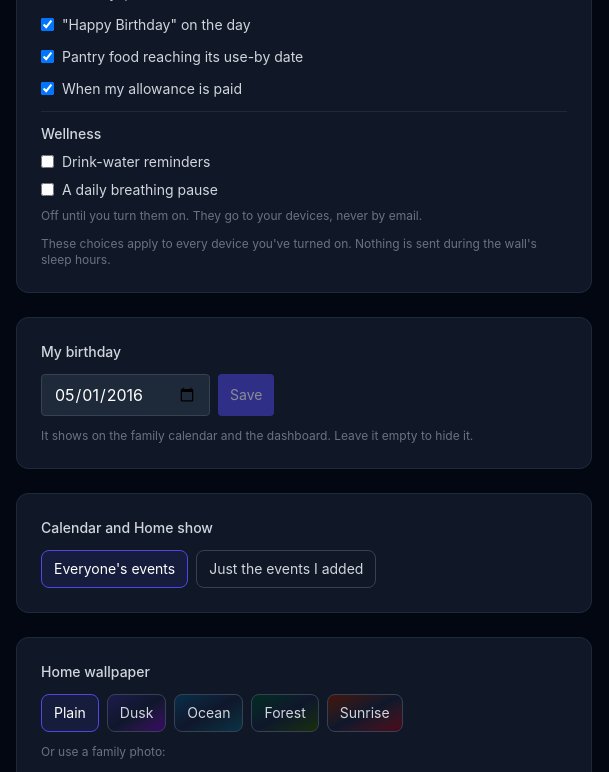
MySettings › explains a birthday that was refused
(page scrolled)
In the date field showing "2016-05-01": (126, 395) [41,374,210,416], type "2099-01-01"
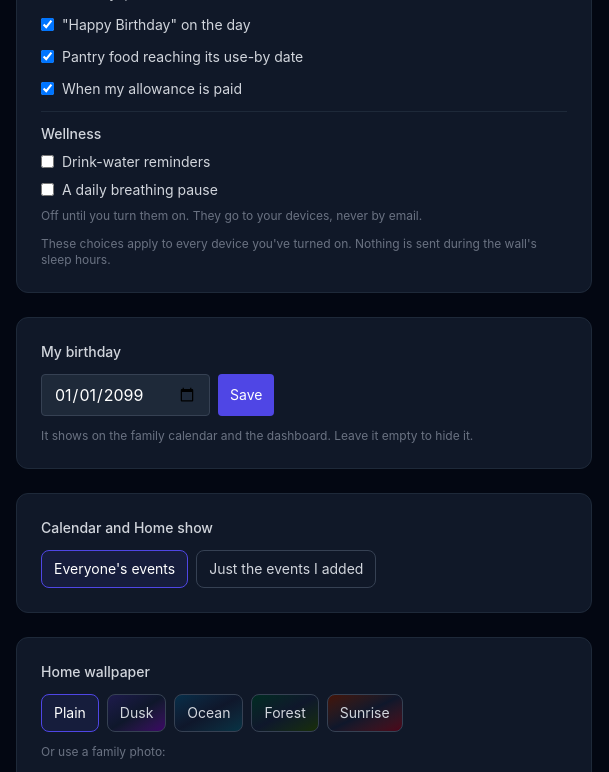
Click the button "Save": (246, 395) [218,374,274,416]
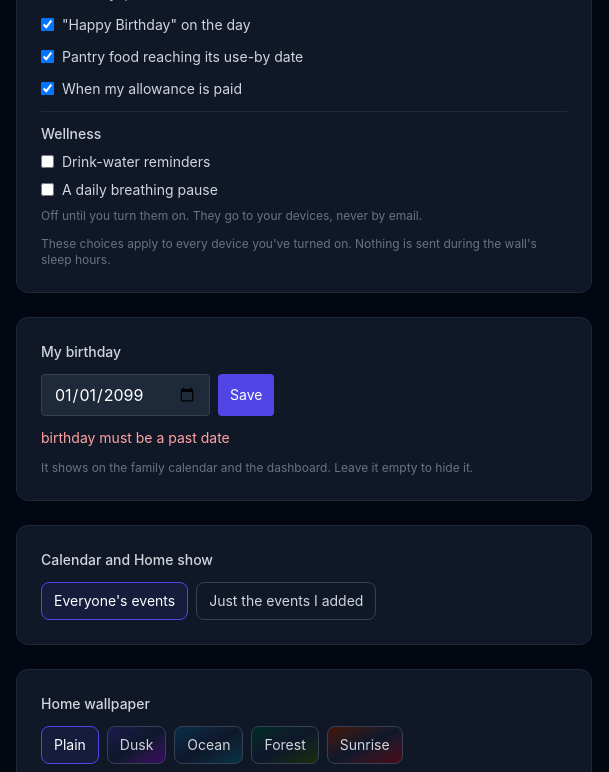
Expected: the text "birthday must be a past date" is shown, [41,429,230,446]
